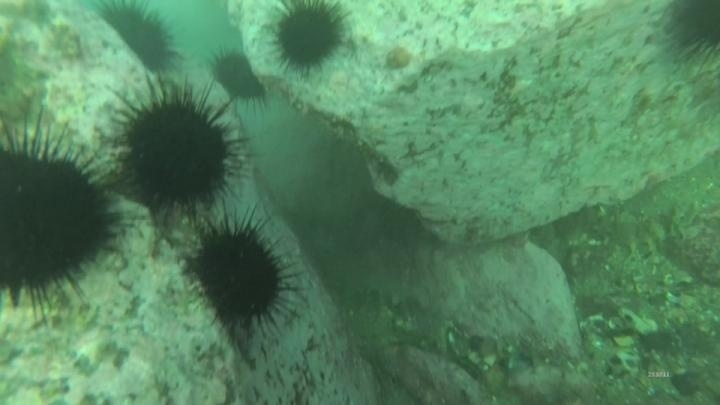echinus: (0, 113, 122, 315), (107, 79, 248, 223), (184, 212, 297, 336), (95, 2, 181, 77), (269, 2, 351, 76), (207, 47, 270, 108), (662, 1, 720, 62)
holothurian: (576, 205, 677, 257)
